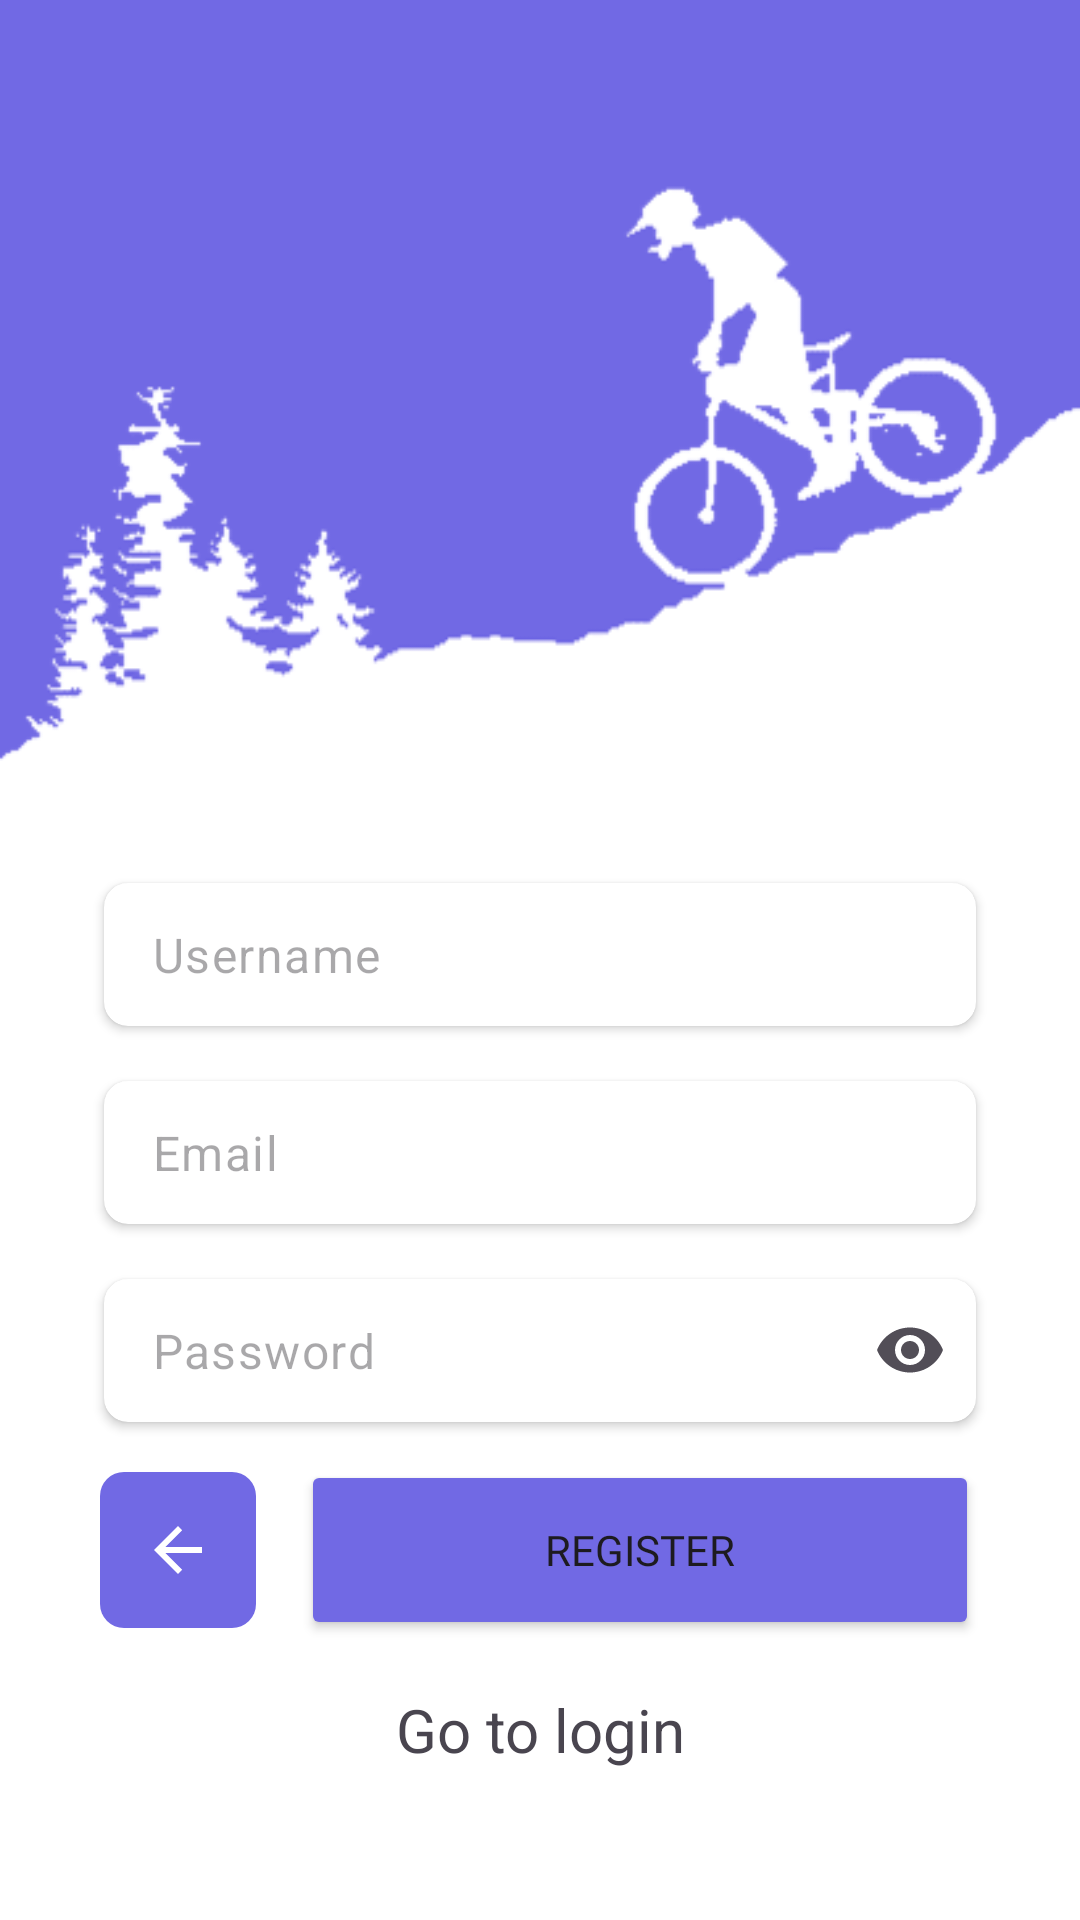

Where icons sit on this 1080x1920 app screen, as (x1, y1, x2, y2):
back: (100, 1472, 256, 1628)
remove eye: (877, 1327, 943, 1373)
